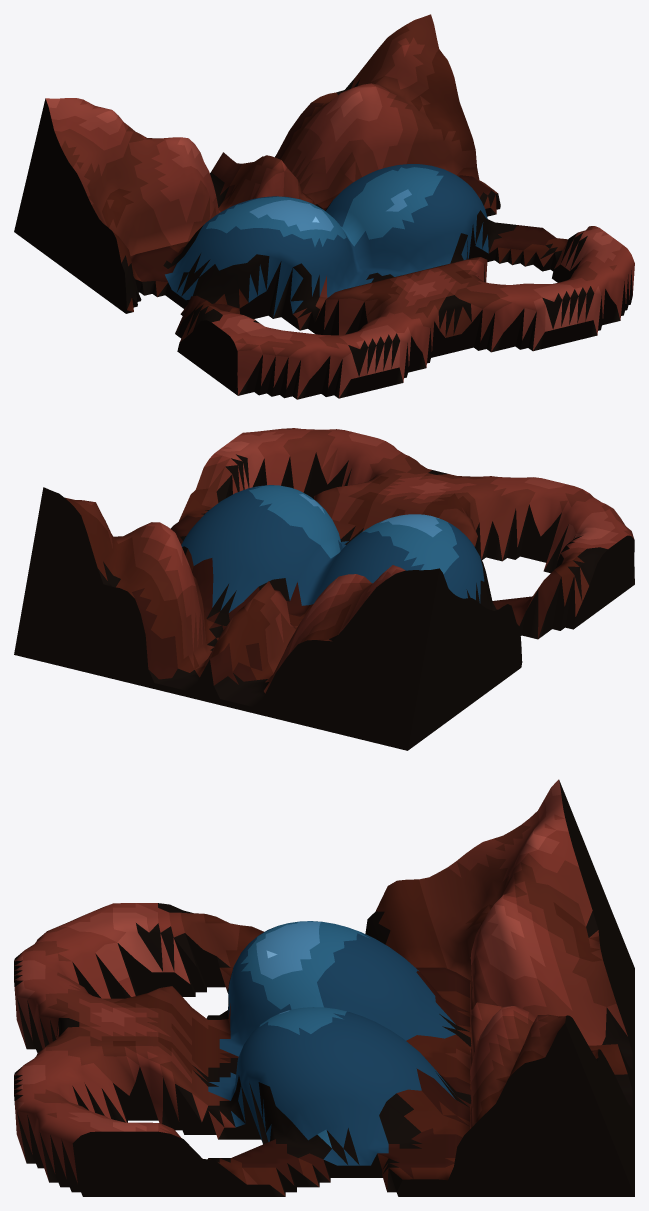
The model's file is brain_bot_m.glb.
3 renders of one model, top to bottom at view 1: azimuth 30°, elevation 25°; view 2: azimuth 150°, elevation 25°; view 3: azimuth 270°, elevation 25°, orthographic. The views are drawn at different scales.
Parts seen in each view (by area): view 1: brain_bot_m; view 2: brain_bot_m; view 3: brain_bot_m.
Boxes of the visible parts, box(x1,y1,x2,y2) form: brain_bot_m: box(14, 14, 634, 399); brain_bot_m: box(14, 428, 634, 750); brain_bot_m: box(14, 779, 634, 1196).
Size of the model in its own units: 24 by 9.27 by 27.56.
